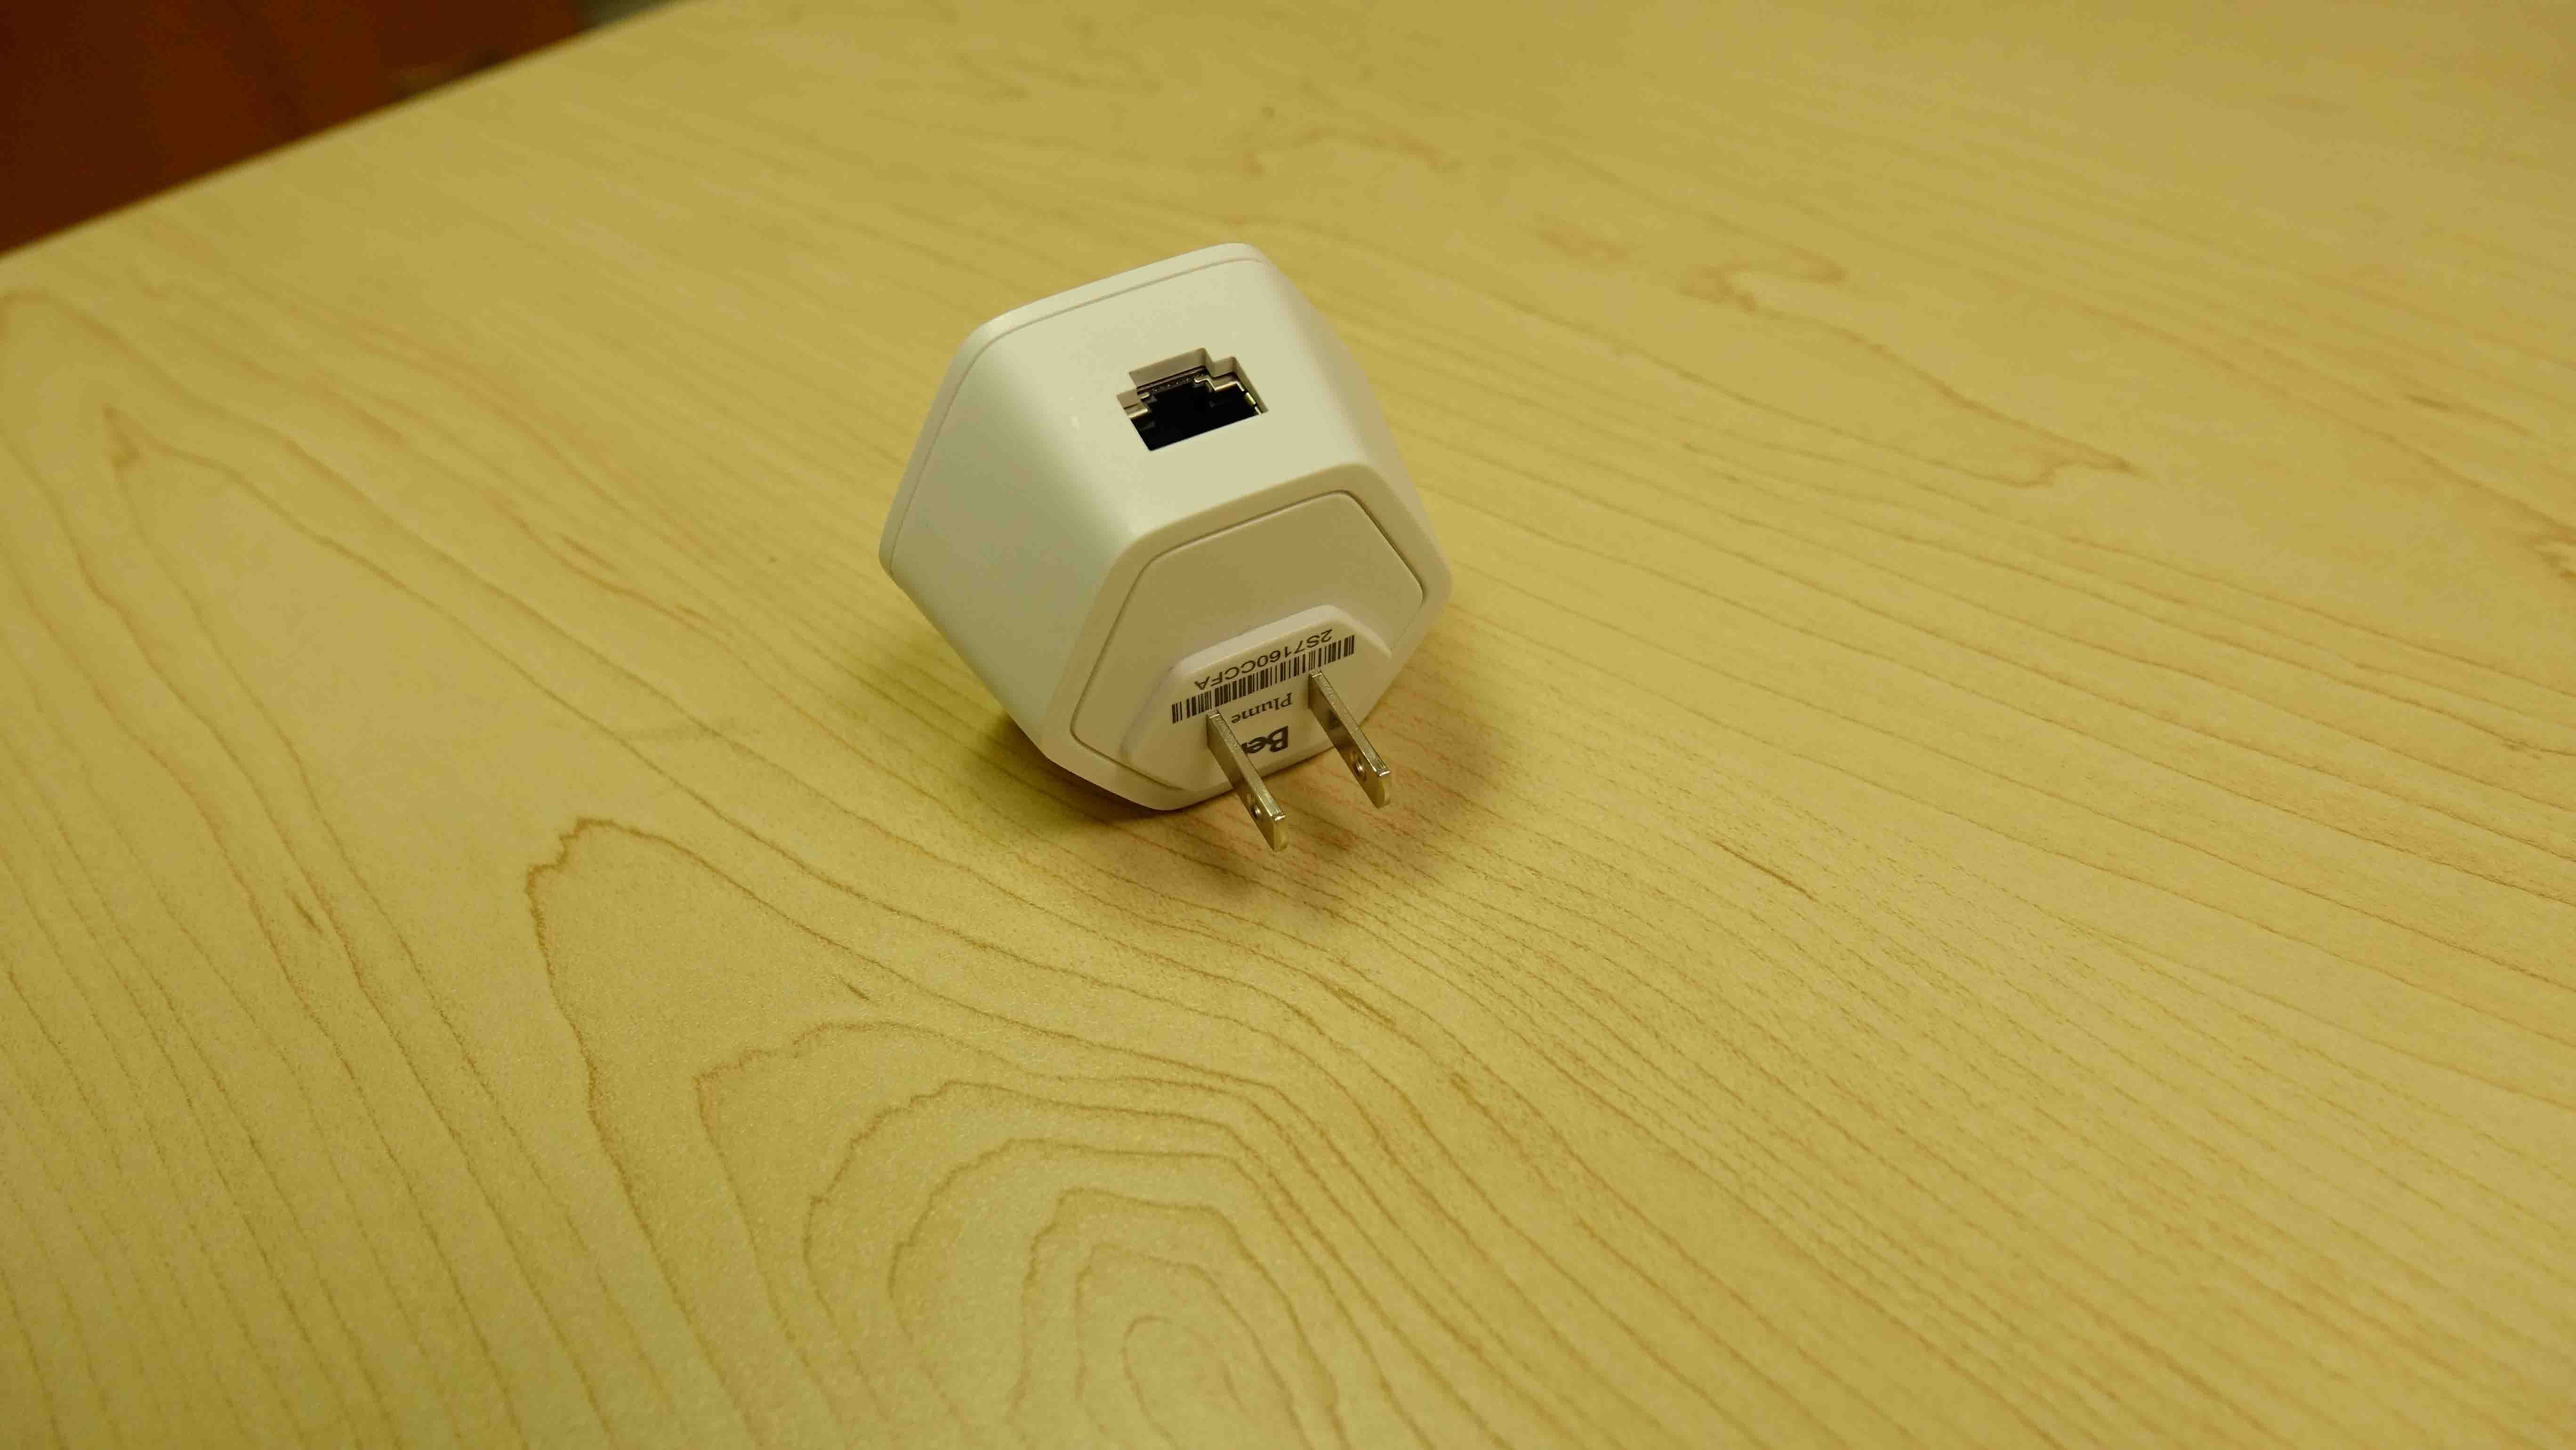pod: (872, 230, 1474, 863)
